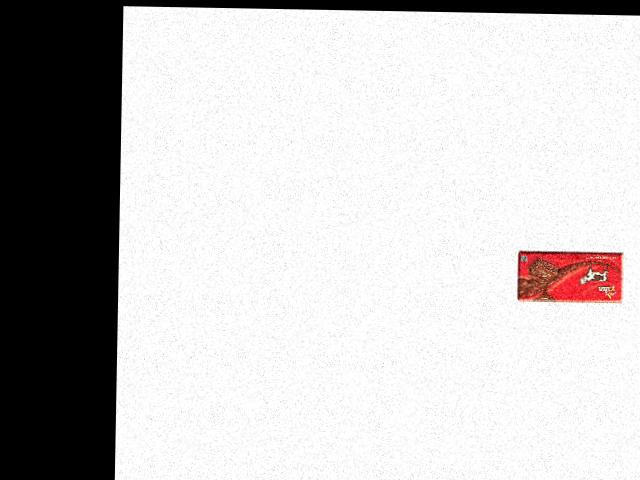chocolate: (514, 245, 627, 305)
